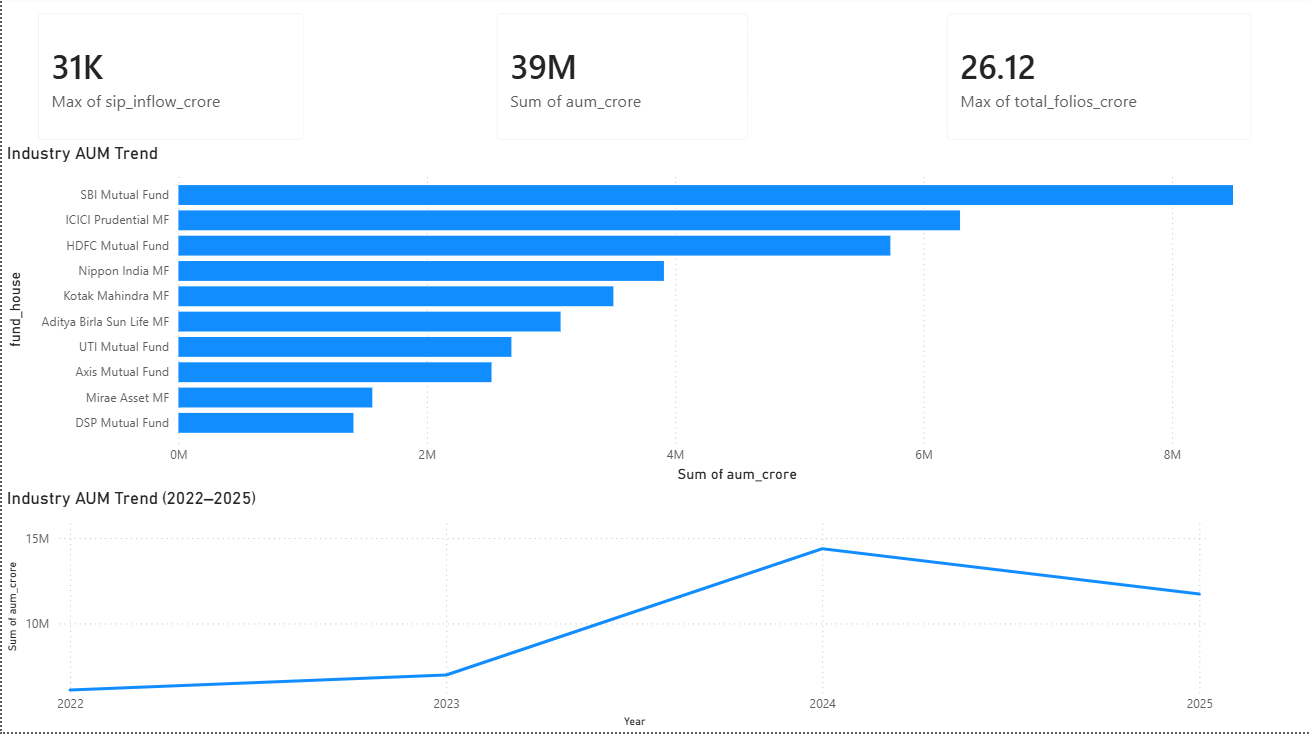

What the dashboard file says about the page in this screenshot:
{"tool":"powerbi","page":{"name":"Industry Overview","canvas":[1280,720],"ordinal":0},"visuals":[{"type":"cardVisual","fields":{"Data":["Sum(03_aum_by_fund_house.aum_crore)"]},"box":[467.1,0,280,159],"z":0},{"type":"cardVisual","fields":{"Data":["Max(04_monthly_sip_inflows.sip_inflow_crore)"]},"box":[18.3,0,294.7,159],"z":1},{"type":"cardVisual","fields":{"Data":["Max(06_industry_folio_count.total_folios_crore)"]},"box":[907.3,0,332.6,159],"z":2},{"type":"lineChart","title":"Industry AUM Trend (2022–2025)","fields":{"Category":["03_aum_by_fund_house.date.Variation.Date Hierarchy.Year","03_aum_by_fund_house.date.Variation.Date Hierarchy.Quarter","03_aum_by_fund_house.date.Variation.Date Hierarchy.Month","03_aum_by_fund_house.date.Variation.Date Hierarchy.Day"],"Y":["Sum(03_aum_by_fund_house.aum_crore)"]},"box":[0,480.1,1189.5,240.1],"z":3},{"type":"clusteredBarChart","title":"Industry AUM Trend","fields":{"Category":["03_aum_by_fund_house.fund_house"],"Y":["Sum(03_aum_by_fund_house.aum_crore)"]},"box":[0,143.1,1280.3,337.5],"z":4}]}

Visuals, with their boxes in screenshot pixels (x1, y1, x2, y2), scaled from the page's 1280x720 canvas onto the 1310x736 screenshot:
cardVisual - Sum(03_aum_by_fund_house.aum_crore): (x1=478, y1=0, x2=765, y2=163)
cardVisual - Max(04_monthly_sip_inflows.sip_inflow_crore): (x1=19, y1=0, x2=320, y2=163)
cardVisual - Max(06_industry_folio_count.total_folios_crore): (x1=929, y1=0, x2=1269, y2=163)
"Industry AUM Trend (2022–2025)" lineChart: (x1=0, y1=491, x2=1217, y2=735)
"Industry AUM Trend" clusteredBarChart: (x1=0, y1=146, x2=1309, y2=491)
